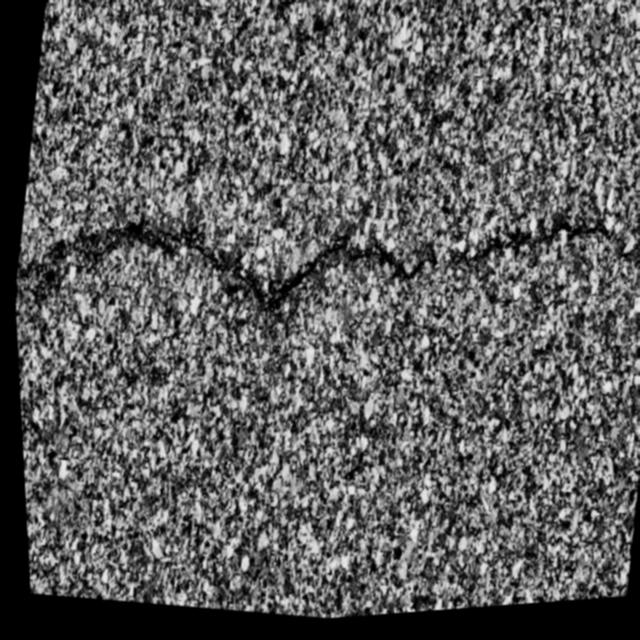cracks: (13, 209, 638, 302)
